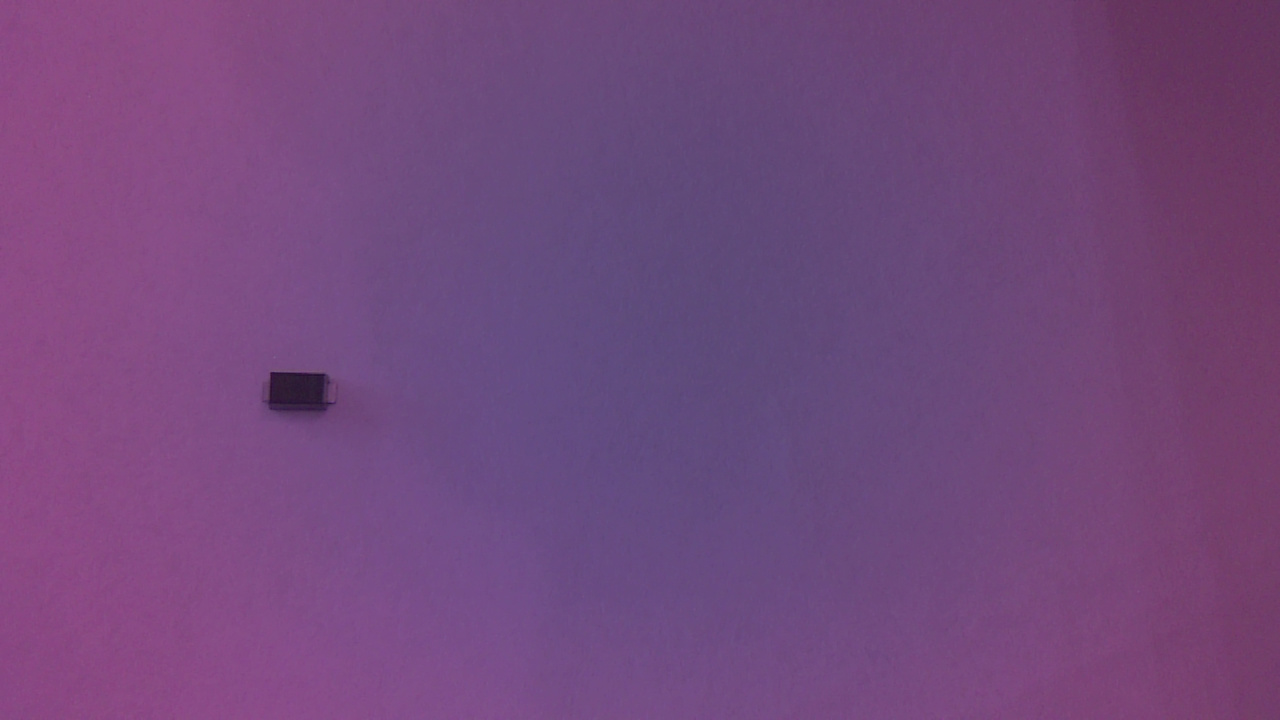Diode: (264, 372, 353, 425)
